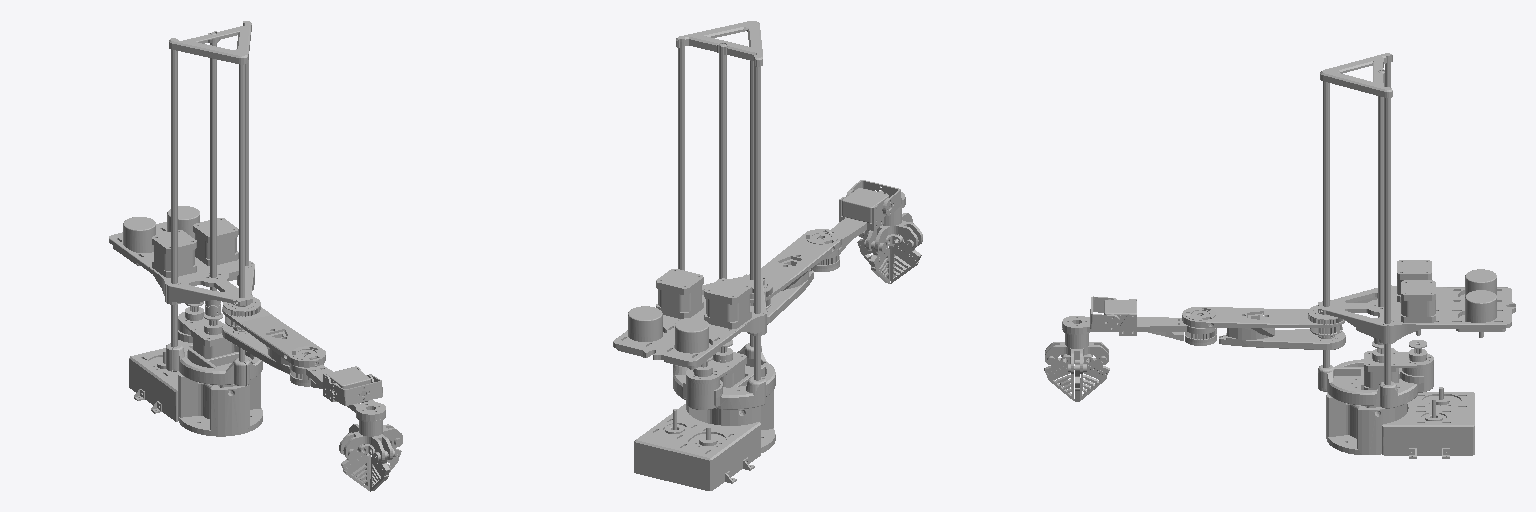
The robot description file, URDF, robot "scara8":
<?xml version="1.0" encoding="utf-8"?>
<!-- This URDF was automatically created by SolidWorks to URDF Exporter! Originally created by [author] ([email redacted]) 
     Commit Version: 1.6.0-1-g15f4949  Build Version: 1.6.7594.29634
     For more information, please see http://wiki.ros.org/sw_urdf_exporter -->
<robot
  name="scara8">
  <link
    name="base_link">
    <inertial>
      <origin
        xyz="0.014281 0.030239 0.014033"
        rpy="0 0 0" />
      <mass
        value="1.2043" />
      <inertia
        ixx="0.001249"
        ixy="-2.9777E-06"
        ixz="-2.7076E-07"
        iyy="0.0011606"
        iyz="3.6514E-08"
        izz="0.0015864" />
    </inertial>
    <visual>
      <origin
        xyz="0 0 0"
        rpy="0 0 0" />
      <geometry>
        <mesh
          filename="package://scara8/meshes/base_link.STL" />
      </geometry>
      <material
        name="">
        <color
          rgba="0.75294 0.75294 0.75294 1" />
      </material>
    </visual>
    <collision>
      <origin
        xyz="0 0 0"
        rpy="0 0 0" />
      <geometry>
        <mesh
          filename="package://scara8/meshes/base_link.STL" />
      </geometry>
    </collision>
  </link>
  <link
    name="link1">
    <inertial>
      <origin
        xyz="0.000205545278386543 0.10769285235124 0.0147624611851796"
        rpy="0 0 0" />
      <mass
        value="0.363813845723441" />
      <inertia
        ixx="0.00131965093977216"
        ixy="-2.75837560531264E-07"
        ixz="5.9259910637476E-07"
        iyy="0.000316683908018167"
        iyz="-2.03450902374268E-06"
        izz="0.00131905305552359" />
    </inertial>
    <visual>
      <origin
        xyz="0 0 0"
        rpy="0 0 0" />
      <geometry>
        <mesh
          filename="package://scara8/meshes/link1.STL" />
      </geometry>
      <material
        name="">
        <color
          rgba="0.752941176470588 0.752941176470588 0.752941176470588 1" />
      </material>
    </visual>
    <collision>
      <origin
        xyz="0 0 0"
        rpy="0 0 0" />
      <geometry>
        <mesh
          filename="package://scara8/meshes/link1.STL" />
      </geometry>
    </collision>
  </link>
  <joint
    name="joint1"
    type="revolute">
    <origin
      xyz="0 0 0.0408"
      rpy="1.5708 0 3.1416" />
    <parent
      link="base_link" />
    <child
      link="link1" />
    <axis
      xyz="0 1 0" />
    <limit
      lower="-3.14159"
      upper="3.14159"
      effort="0"
      velocity="0" />
  </joint>
  <link
    name="link2">
    <inertial>
      <origin
        xyz="-0.000113401252195038 0.0339295858638435 0.0633738369323235"
        rpy="0 0 0" />
      <mass
        value="0.349496704950288" />
      <inertia
        ixx="0.000408165235585054"
        ixy="-5.40308089541561E-07"
        ixz="-1.79850928558554E-06"
        iyy="0.000539133104321667"
        iyz="-8.69432622399424E-06"
        izz="0.000156212046475738" />
    </inertial>
    <visual>
      <origin
        xyz="0 0 0"
        rpy="0 0 0" />
      <geometry>
        <mesh
          filename="package://scara8/meshes/link2.STL" />
      </geometry>
      <material
        name="">
        <color
          rgba="0.752941176470588 0.752941176470588 0.752941176470588 1" />
      </material>
    </visual>
    <collision>
      <origin
        xyz="0 0 0"
        rpy="0 0 0" />
      <geometry>
        <mesh
          filename="package://scara8/meshes/link2.STL" />
      </geometry>
    </collision>
  </link>
  <joint
    name="joint2"
    type="prismatic">
    <origin
      xyz="-4.5017E-05 0.10889 0.017"
      rpy="0 0 0" />
    <parent
      link="link1" />
    <child
      link="link2" />
    <axis
      xyz="0 1 0" />
    <limit
      lower="0"
      upper="0.3"
      effort="0"
      velocity="0" />
  </joint>
  <link
    name="link3">
    <inertial>
      <origin
        xyz="-5.81451047449588E-06 -0.00102608449075201 -0.0574742978683534"
        rpy="0 0 0" />
      <mass
        value="0.132126071614938" />
      <inertia
        ixx="0.000225515369471188"
        ixy="-2.44455452439231E-10"
        ixz="3.78976086180826E-09"
        iyy="0.000235592384959537"
        iyz="9.45901757704939E-06"
        izz="2.11904300778704E-05" />
    </inertial>
    <visual>
      <origin
        xyz="0 0 0"
        rpy="0 0 0" />
      <geometry>
        <mesh
          filename="package://scara8/meshes/link3.STL" />
      </geometry>
      <material
        name="">
        <color
          rgba="0.752941176470588 0.752941176470588 0.752941176470588 1" />
      </material>
    </visual>
    <collision>
      <origin
        xyz="0 0 0"
        rpy="0 0 0" />
      <geometry>
        <mesh
          filename="package://scara8/meshes/link3.STL" />
      </geometry>
    </collision>
  </link>
  <joint
    name="joint3"
    type="revolute">
    <origin
      xyz="4.5017E-05 0 -0.067"
      rpy="0 0 0" />
    <parent
      link="link2" />
    <child
      link="link3" />
    <axis
      xyz="0 1 0" />
    <limit
      lower="-2.3"
      upper="2.3"
      effort="0"
      velocity="0" />
  </joint>
  <link
    name="link4">
    <inertial>
      <origin
        xyz="-1.22201443150347E-05 0.00396034880456828 0.0818995097852029"
        rpy="0 0 0" />
      <mass
        value="0.155200781295352" />
      <inertia
        ixx="0.00013574222178699"
        ixy="-2.74240918695948E-10"
        ixz="-3.42560418530863E-08"
        iyy="0.000148638986304636"
        iyz="-3.33008793501809E-06"
        izz="2.20575276924228E-05" />
    </inertial>
    <visual>
      <origin
        xyz="0 0 0"
        rpy="0 0 0" />
      <geometry>
        <mesh
          filename="package://scara8/meshes/link4.STL" />
      </geometry>
      <material
        name="">
        <color
          rgba="0.752941176470588 0.752941176470588 0.752941176470588 1" />
      </material>
    </visual>
    <collision>
      <origin
        xyz="0 0 0"
        rpy="0 0 0" />
      <geometry>
        <mesh
          filename="package://scara8/meshes/link4.STL" />
      </geometry>
    </collision>
  </link>
  <joint
    name="joint4"
    type="continuous">
    <origin
      xyz="0 0 -0.1528"
      rpy="3.1416 0 3.1416" />
    <parent
      link="link3" />
    <child
      link="link4" />
    <axis
      xyz="0 1 0" />
    <limit
      lower="-2.79"
      upper="2.79"
      effort="0"
      velocity="0" />
  </joint>
  <link
    name="gripper">
    <inertial>
      <origin
        xyz="4.81946237331961E-06 -0.0134963917729294 -1.62047839036283E-08"
        rpy="0 0 0" />
      <mass
        value="0.0561537360514212" />
      <inertia
        ixx="1.10145630364231E-05"
        ixy="1.66294043842633E-09"
        ixz="1.63676953692544E-14"
        iyy="1.42564562370717E-05"
        iyz="-5.59141097965032E-12"
        izz="1.1018891754115E-05" />
    </inertial>
    <visual>
      <origin
        xyz="0 0 0"
        rpy="0 0 0" />
      <geometry>
        <mesh
          filename="package://scara8/meshes/gripper.STL" />
      </geometry>
      <material
        name="">
        <color
          rgba="0.752941176470588 0.752941176470588 0.752941176470588 1" />
      </material>
    </visual>
    <collision>
      <origin
        xyz="0 0 0"
        rpy="0 0 0" />
      <geometry>
        <mesh
          filename="package://scara8/meshes/gripper.STL" />
      </geometry>
    </collision>
  </link>
  <joint
    name="joint5"
    type="fixed">
    <origin
      xyz="-3.9765E-05 -0.033789 0.15"
      rpy="0 0 0" />
    <parent
      link="link4" />
    <child
      link="gripper" />
    <axis
      xyz="0 0 0" />
  </joint>
</robot>

--- Facts derived from the render (not from the file) ---
The picture shows the robot from 3 angles, left to right: view 1: azimuth 30°, elevation 25°; view 2: azimuth 150°, elevation 25°; view 3: azimuth 270°, elevation 25°; orthographic projection.
Robot: scara8 — 6 links, 5 joints (2 revolute, 1 continuous, 1 prismatic, 1 fixed); root link base_link; default pose: all joints at 0.
Visible links, largest first — view 1: link1, link2, base_link, link3, link4, gripper; view 2: link1, link2, base_link, link3, link4, gripper; view 3: link1, link2, base_link, link3, link4, gripper.
Boxes of the visible links, x1,y1,x2,y2 form: link1: (166, 21, 262, 385); link2: (109, 206, 254, 306); base_link: (129, 348, 262, 436); link3: (222, 297, 325, 374); link4: (290, 354, 385, 436); gripper: (339, 424, 402, 491); link1: (673, 21, 775, 409); link2: (613, 269, 766, 369); base_link: (634, 391, 775, 490); link3: (750, 229, 841, 324); link4: (811, 180, 905, 271); gripper: (857, 213, 922, 283); link1: (1318, 53, 1433, 408); link2: (1318, 260, 1515, 343); base_link: (1326, 387, 1474, 458); link3: (1182, 305, 1345, 349); link4: (1062, 296, 1216, 348); gripper: (1044, 342, 1109, 401).
Size in the robot's own frame: 0.12 by 0.5721 by 0.4913 metres.
6 mesh visuals loaded from 6 distinct referenced files (6 binary STL).
